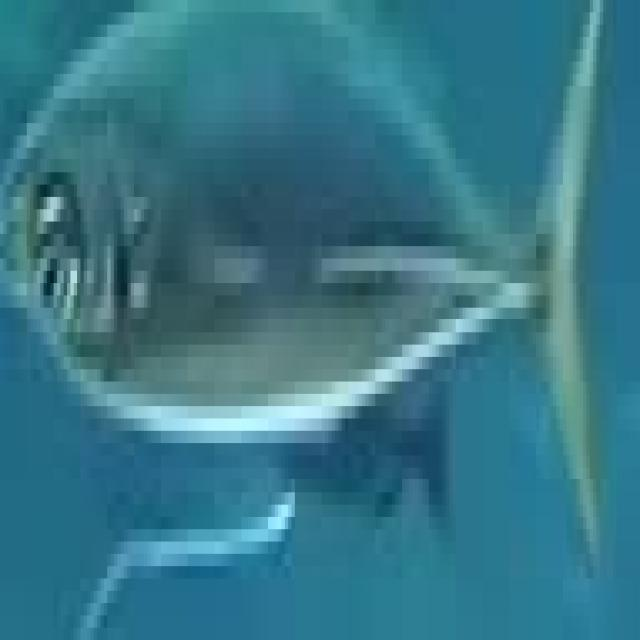fish: (3, 0, 640, 628)
